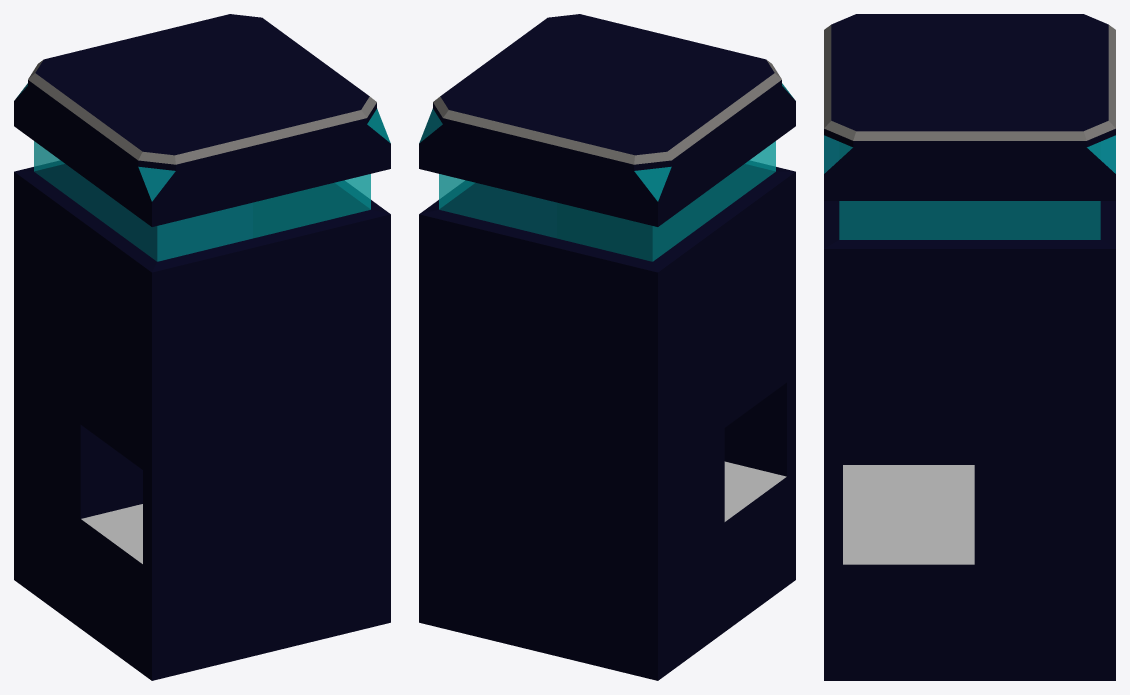
File: Navy Building.fbx
3 renders of one model, left to right at view 1: azimuth 30°, elevation 25°; view 2: azimuth 150°, elevation 25°; view 3: azimuth 270°, elevation 25°, orthographic. The views are drawn at different scales.
Visible parts, largest first — view 1: Building_navy; view 2: Building_navy; view 3: Building_navy.
Boxes of the visible parts, left/top/right/bottom form: Building_navy: left=14, top=14, right=390, bottom=680; Building_navy: left=419, top=14, right=795, bottom=680; Building_navy: left=824, top=14, right=1115, bottom=680.
Bounding box in the file's own units: 40.63 × 83.94 × 40.63.
